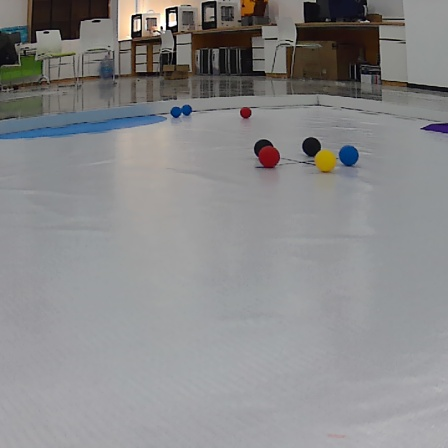black: (302, 136, 324, 156), (253, 133, 274, 153)
blue: (337, 141, 366, 167), (170, 103, 182, 119), (181, 103, 192, 115)
blue_base: (2, 112, 163, 140)
red: (258, 145, 283, 169), (236, 104, 257, 120)
yellow: (311, 153, 339, 172)
